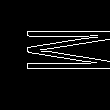M_E: (1, 32, 109, 78)
